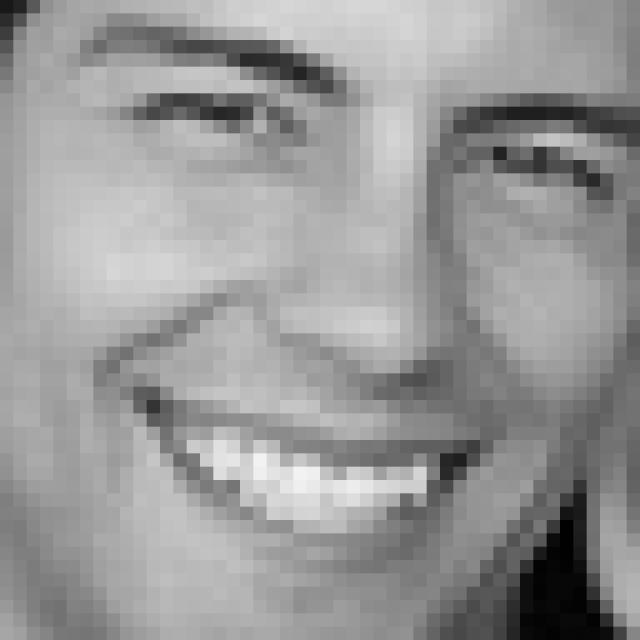happy: (62, 14, 640, 584)
